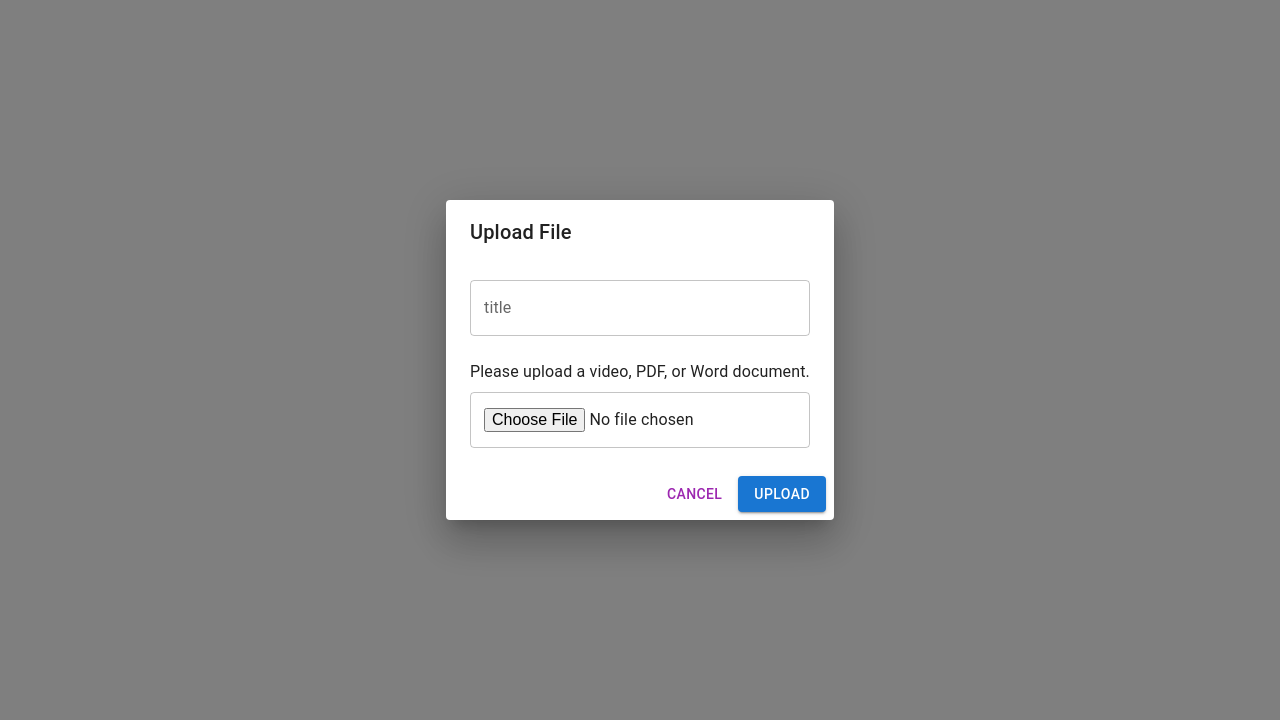
Scenario: UploadFileDialog › displays an error message when the title is missing
The width and height of the screenshot is (1280, 720).
Click the button "Upload": coordinates (782, 494) top-left (738, 476), bottom-right (826, 512)
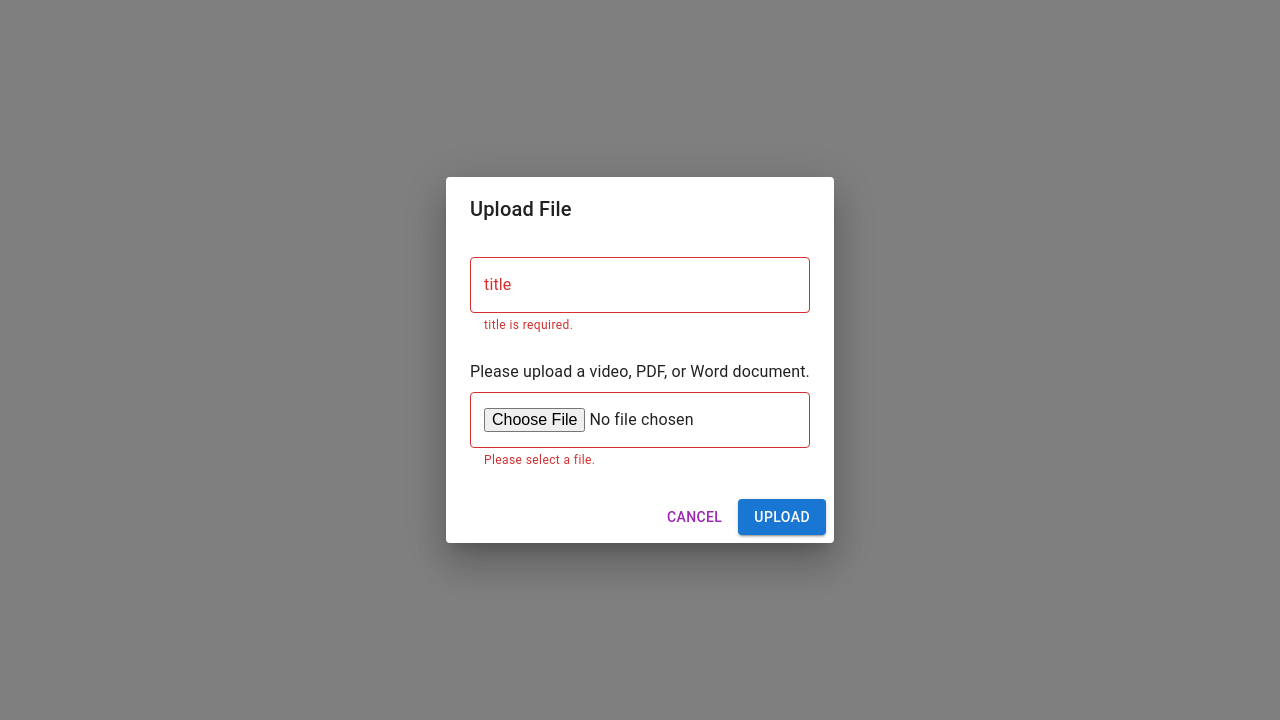
Result: the text "title is required." is shown at top-left (484, 318), bottom-right (573, 332)
